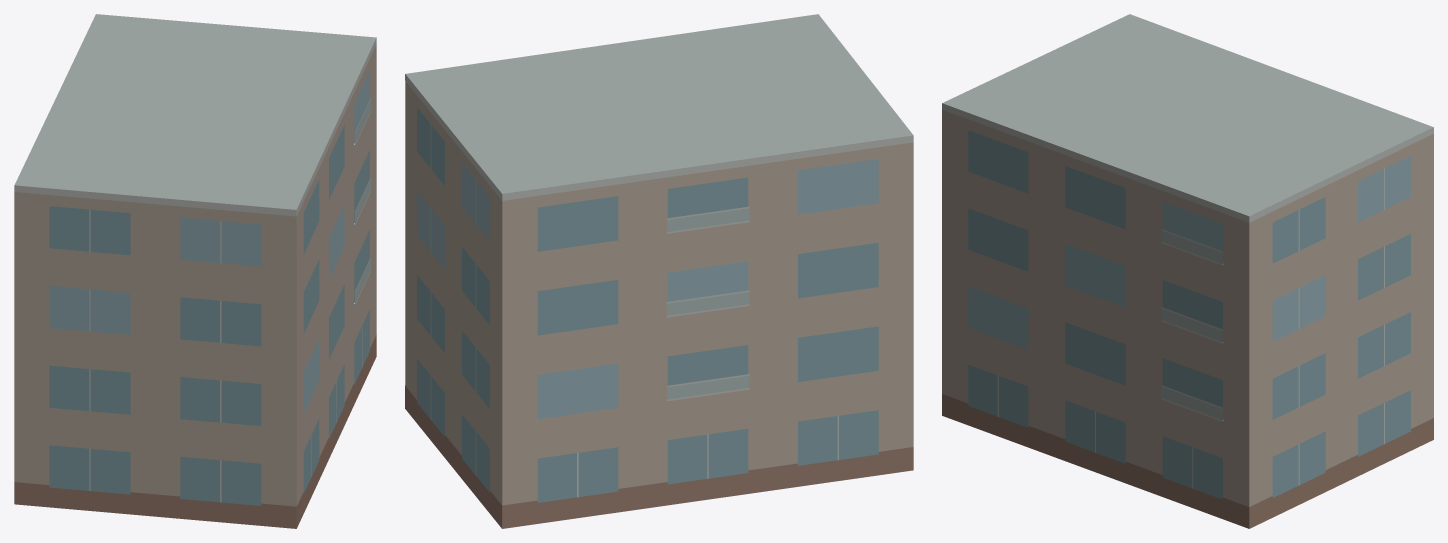
The model's file is survey-upis-32523571.glb.
The picture shows the model from 3 angles, left to right: view 1: azimuth 30°, elevation 25°; view 2: azimuth 150°, elevation 25°; view 3: azimuth 270°, elevation 25°; orthographic projection. The views are drawn at different scales.
Parts seen in each view (by area): view 1: survey-upis-32523571.tmp; view 2: survey-upis-32523571.tmp; view 3: survey-upis-32523571.tmp.
Boxes of the visible parts, x1=… form: survey-upis-32523571.tmp: x1=14, y1=14, x2=376, y2=528; survey-upis-32523571.tmp: x1=405, y1=14, x2=913, y2=528; survey-upis-32523571.tmp: x1=942, y1=14, x2=1433, y2=528.
Bounding box in the file's own units: 16.39 × 11.8 × 16.83.
